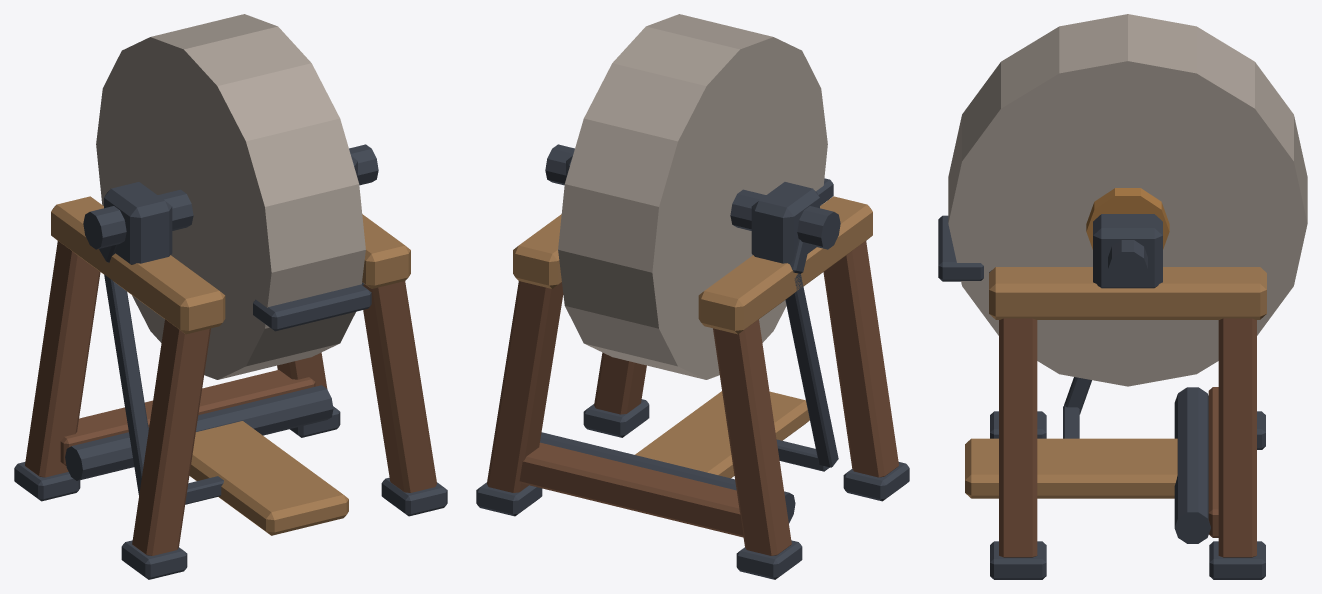
Rendered from 05_Treadle_Grindstone.glb.
3 views of the same model, side by side, from view 1: azimuth 30°, elevation 25°; view 2: azimuth 150°, elevation 25°; view 3: azimuth 270°, elevation 25° (orthographic). The views are drawn at different scales.
Visible parts, largest first — view 1: 05_Treadle_Grindstone__Body; view 2: 05_Treadle_Grindstone__Body; view 3: 05_Treadle_Grindstone__Body.
Part boxes in pixels (x1,y1,x2,y2): 05_Treadle_Grindstone__Body: [14, 14, 447, 579]; 05_Treadle_Grindstone__Body: [476, 14, 909, 579]; 05_Treadle_Grindstone__Body: [938, 14, 1307, 579].
Bounding box in the file's own units: 2.15 × 3.11 × 2.22.
1 material, 1 textured.
